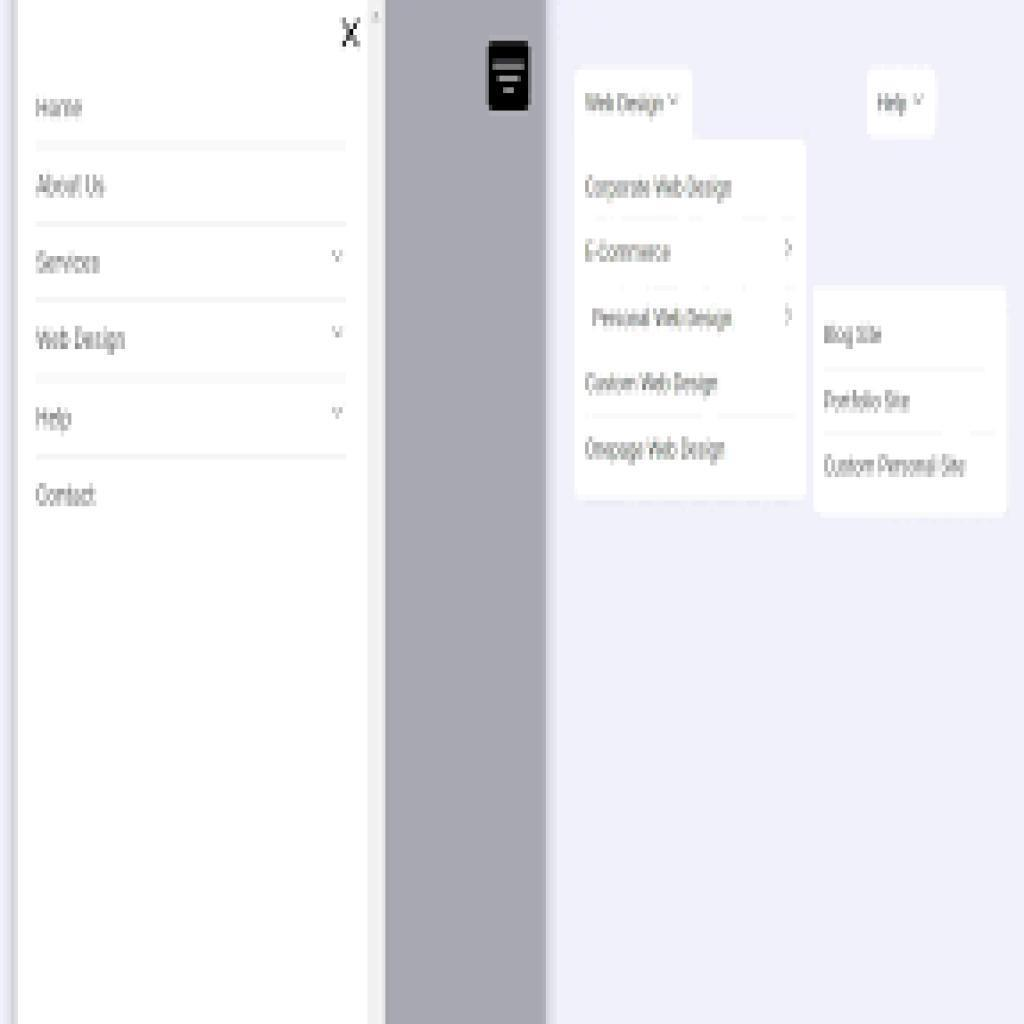dropdown: (577, 69, 694, 137), (867, 65, 938, 142)
